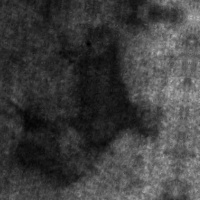patches: (48, 15, 163, 166), (3, 124, 93, 192)
